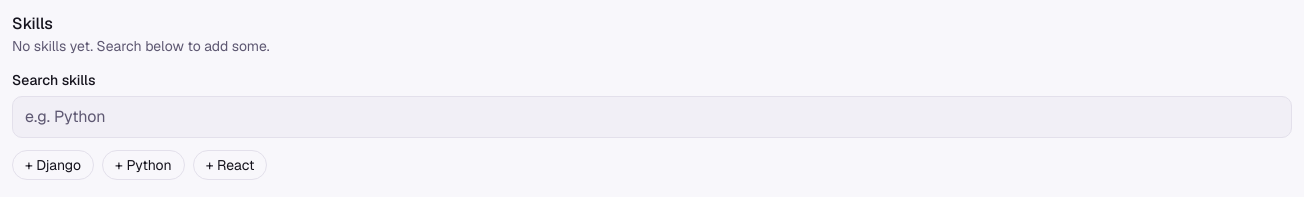
Test: a skill that isn't in the list can't be picked
Type "Cobol" into the search field labelled "Search skills" at [652, 117], box [12,96,1292,138]
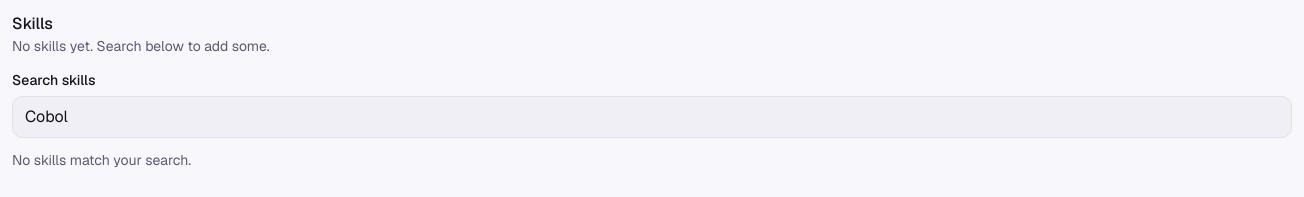
Now the text "No skills match your search." is shown, box [12,151,191,169]
